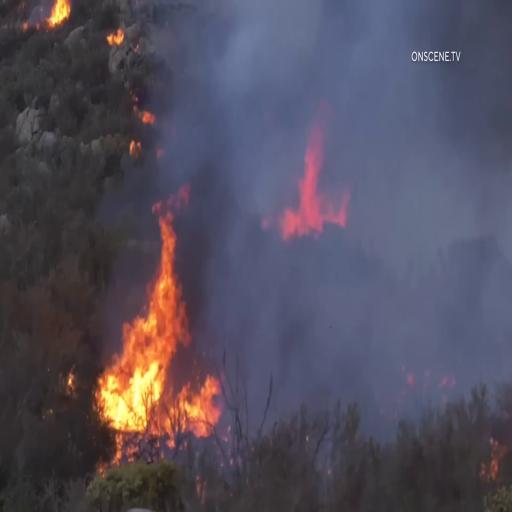fire: (107, 196, 198, 419)
smoke: (219, 14, 402, 290)
